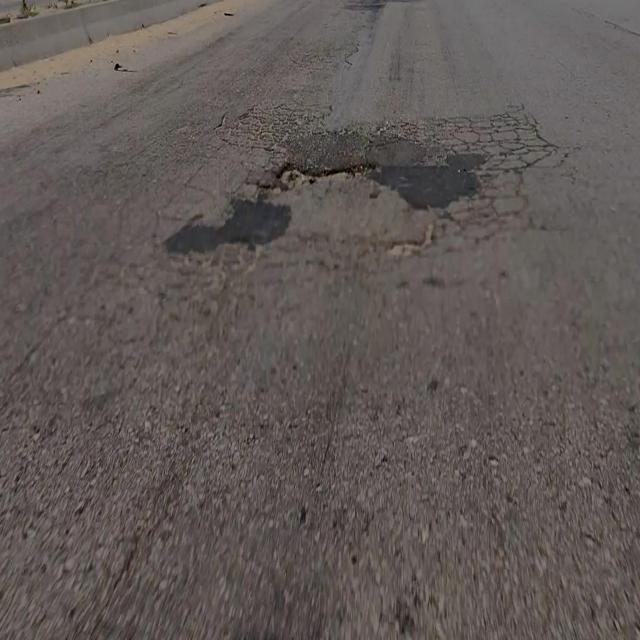Potholes: (257, 160, 377, 199)
